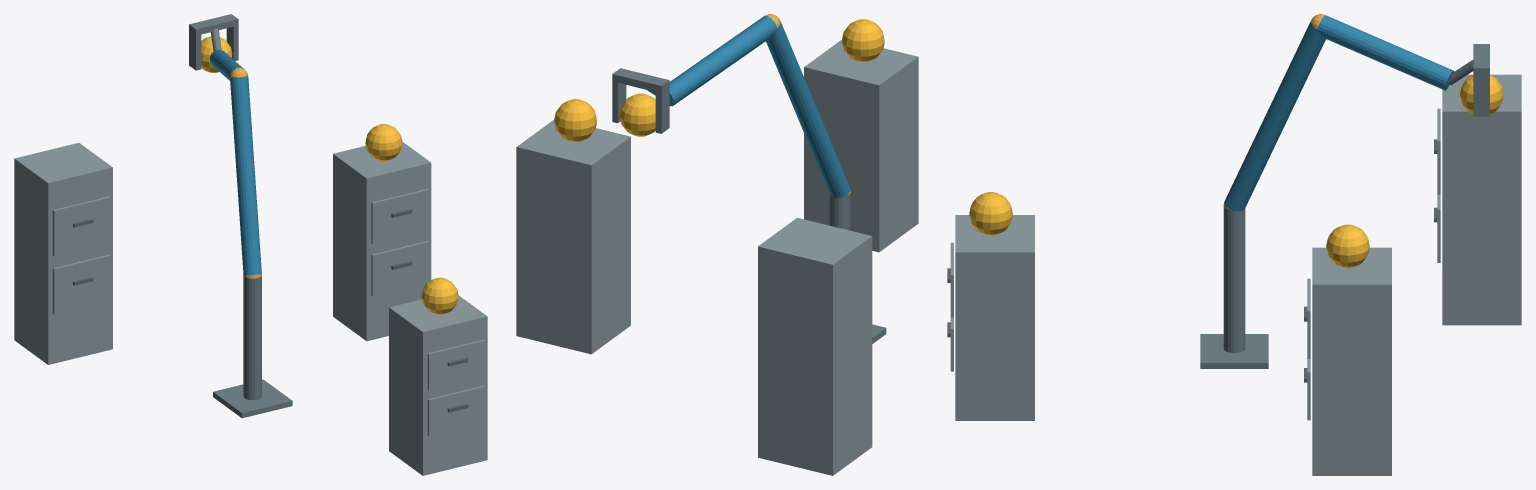
The picture shows the model from 3 angles, left to right: view 1: azimuth 30°, elevation 25°; view 2: azimuth 150°, elevation 25°; view 3: azimuth 270°, elevation 25°; orthographic projection. The views are drawn at different scales.
Visible parts, largest first — view 1: cabinet_3 body, cabinet_1 body, cabinet_2 body, moving link 1, cabinet_3 drawer front, cabinet_3 drawer front.001, cabinet_2 drawer front.001, cabinet_2 drawer front, fixed post, cabinet_1 drawer front.001, cabinet_1 drawer front, pedestal (+5 smaller); view 2: cabinet_3 body, cabinet_2 body, cabinet_1 body, moving link 1, moving link 2, released ball_1, released ball_2, ball ball_3, gripper bridge, fixed post, gripper finger -1, gripper finger 1; view 3: cabinet_3 body, cabinet_2 body, cabinet_1 body, moving link 1, fixed post, moving link 2, pedestal, released ball_2, released ball_1, ball ball_3, gripper finger 1.
Boxes of the visible parts, x1,y1,x2,y2 form: cabinet_3 body: (14, 142, 112, 364); cabinet_1 body: (389, 295, 487, 475); cabinet_2 body: (333, 141, 431, 341); moving link 1: (230, 76, 261, 275); cabinet_3 drawer front: (52, 254, 110, 314); cabinet_3 drawer front.001: (52, 196, 110, 256); cabinet_2 drawer front.001: (371, 188, 429, 243); cabinet_2 drawer front: (371, 241, 429, 296); fixed post: (243, 275, 261, 400); cabinet_1 drawer front.001: (427, 339, 485, 389); cabinet_1 drawer front: (427, 385, 485, 436); pedestal: (213, 379, 292, 418); cabinet_3 body: (758, 218, 872, 475); cabinet_2 body: (516, 119, 630, 354); cabinet_1 body: (804, 39, 918, 252); moving link 1: (766, 21, 850, 197); moving link 2: (669, 15, 777, 106); released ball_1: (842, 19, 884, 62); released ball_2: (554, 99, 596, 142); ball ball_3: (619, 93, 655, 136); gripper bridge: (612, 68, 669, 93); fixed post: (829, 191, 850, 230); gripper finger -1: (655, 88, 669, 133); gripper finger 1: (612, 81, 626, 123); cabinet_3 body: (1442, 74, 1521, 325); cabinet_2 body: (1312, 247, 1391, 475); cabinet_1 body: (955, 215, 1034, 420); moving link 1: (1224, 21, 1325, 211); fixed post: (1223, 206, 1245, 352); moving link 2: (1317, 15, 1454, 90); pedestal: (1200, 334, 1268, 368); released ball_2: (1326, 224, 1369, 268); released ball_1: (969, 192, 1012, 235); ball ball_3: (1459, 75, 1503, 114); gripper finger 1: (1473, 75, 1489, 116).
Size of the model in its own units: 1.62 by 1.42 by 2.1.
